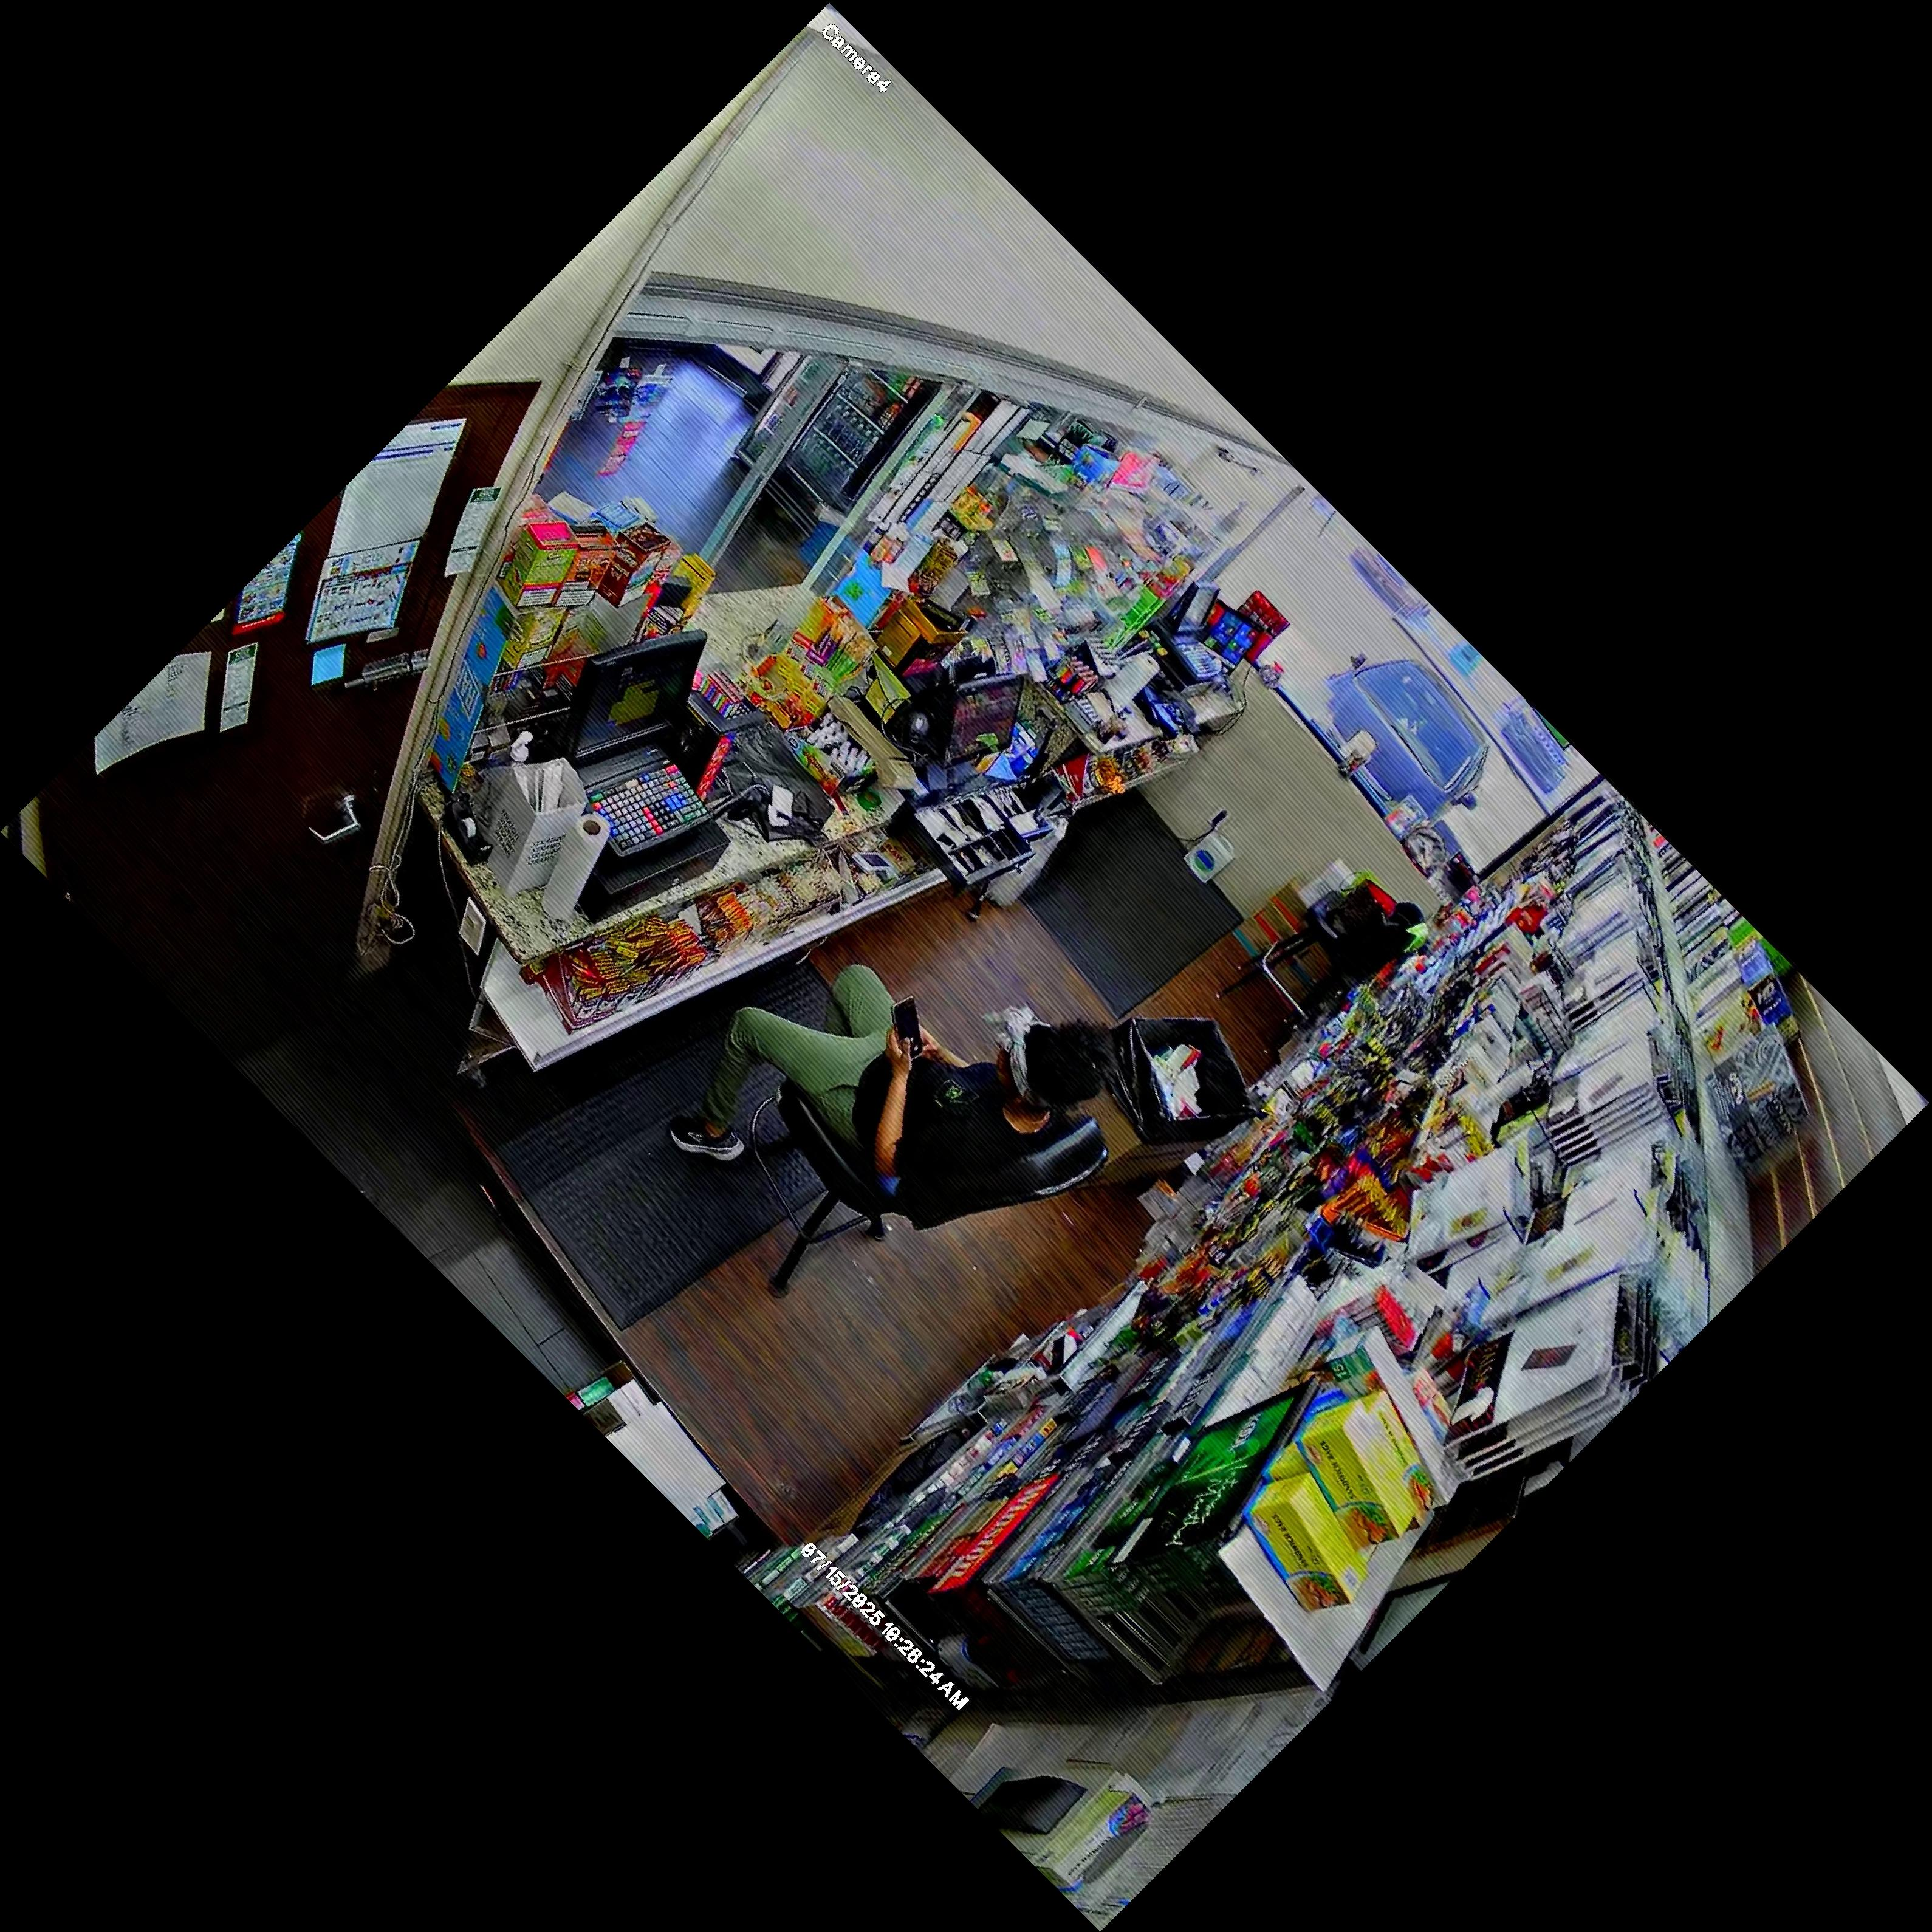phone: (879, 984, 931, 1070)
